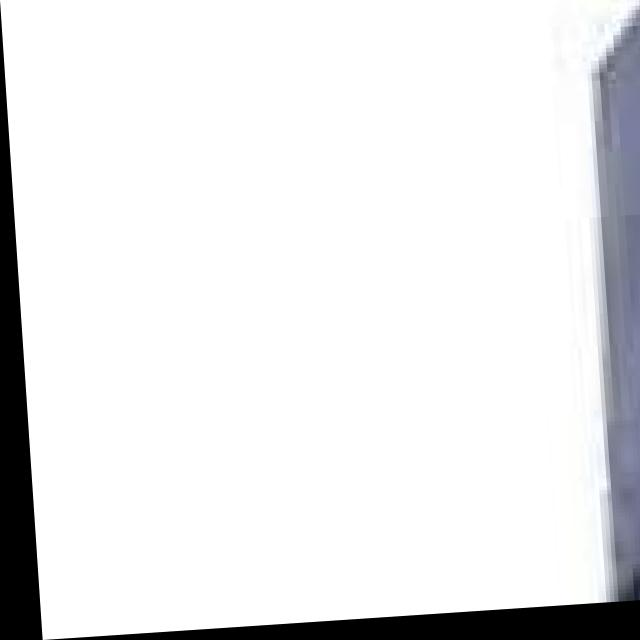potentiometer: (564, 0, 640, 610)
